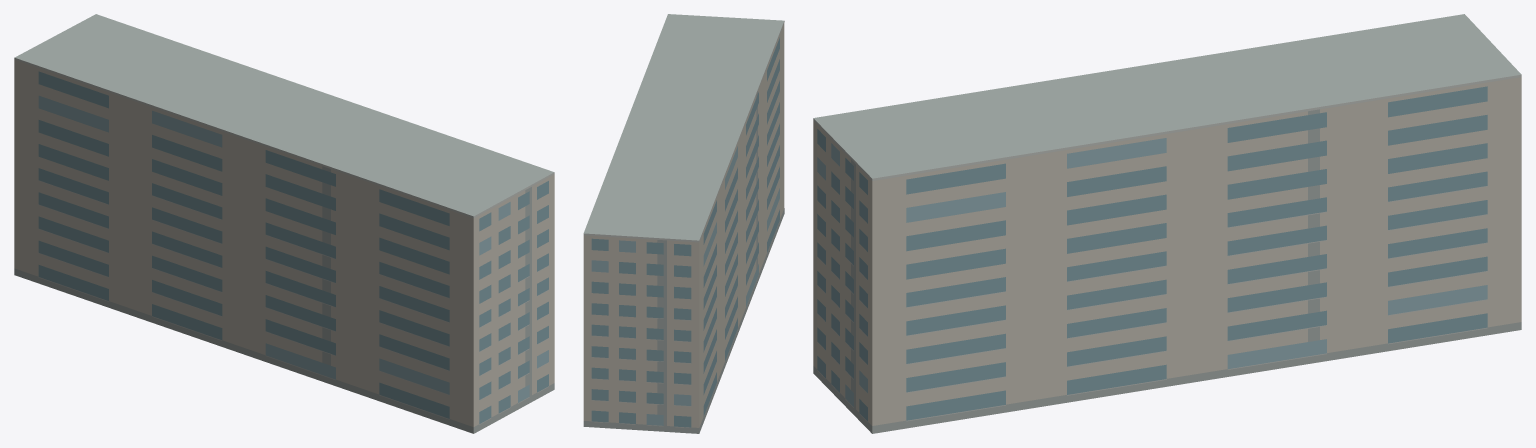
File: survey-upis-32973079.glb
The picture shows the model from 3 angles, left to right: view 1: azimuth 30°, elevation 25°; view 2: azimuth 150°, elevation 25°; view 3: azimuth 270°, elevation 25°; orthographic projection. The views are drawn at different scales.
Visible parts, largest first — view 1: survey-upis-32973079.tmp; view 2: survey-upis-32973079.tmp; view 3: survey-upis-32973079.tmp.
Part boxes in pixels (x1=…): survey-upis-32973079.tmp: x1=14, y1=14, x2=554, y2=433; survey-upis-32973079.tmp: x1=583, y1=14, x2=784, y2=433; survey-upis-32973079.tmp: x1=813, y1=14, x2=1521, y2=433.
Size of the model in its own units: 36.04 by 26.04 by 65.51.
